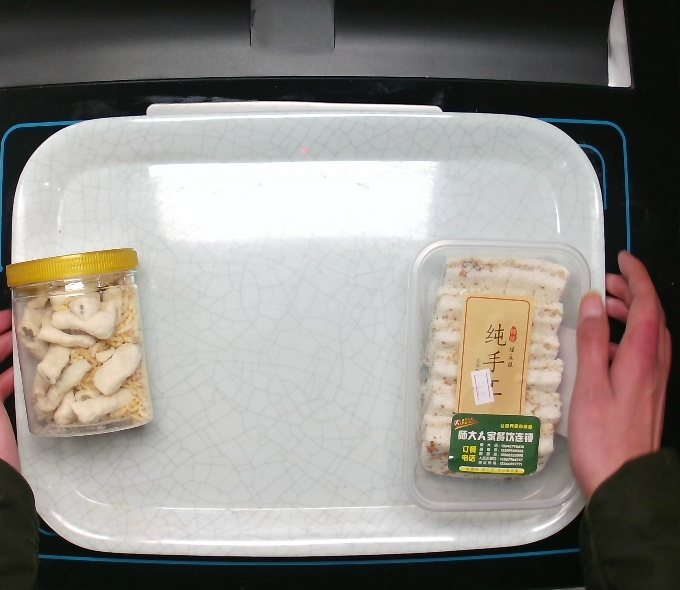wcq-GuiHuaGao: (399, 232, 598, 516)
wcq-MaiYaTang: (3, 245, 159, 442)
